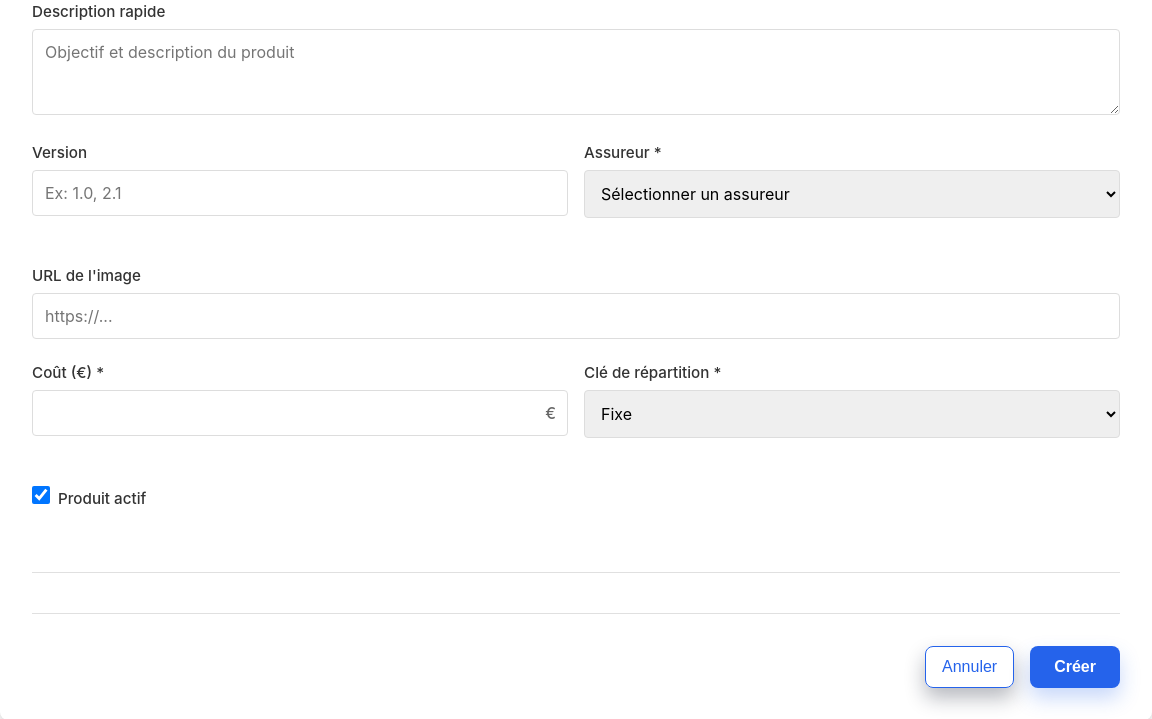
Scenario: ProductForm › shows validation errors for required fields
(page scrolled)
Expected: the dropdown labelled "Assureur *" is shown, [584, 170, 1120, 218]
Click the button "Créer" at x=1075, y=667, box [1030, 646, 1120, 688]
(page scrolled)
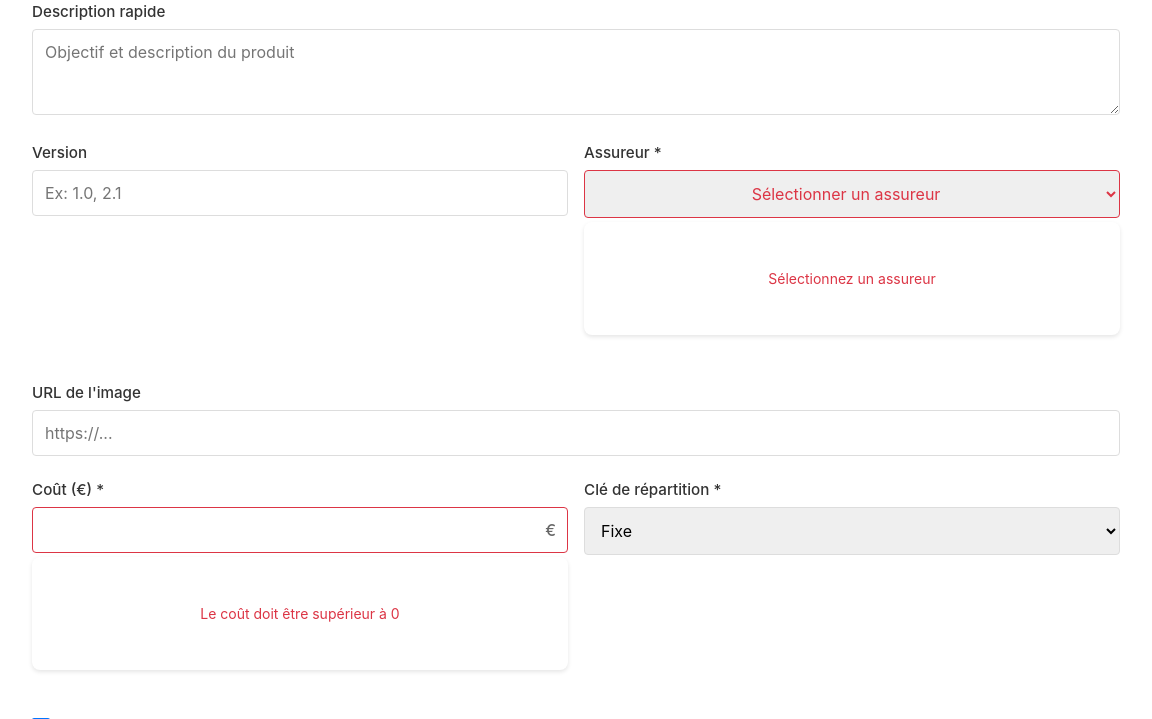
Expected: the text "Le coût doit être supérieur à 0" is shown, [32, 557, 568, 670]
Expected: the text "Sélectionnez un assureur" is shown, [584, 222, 1120, 335]
